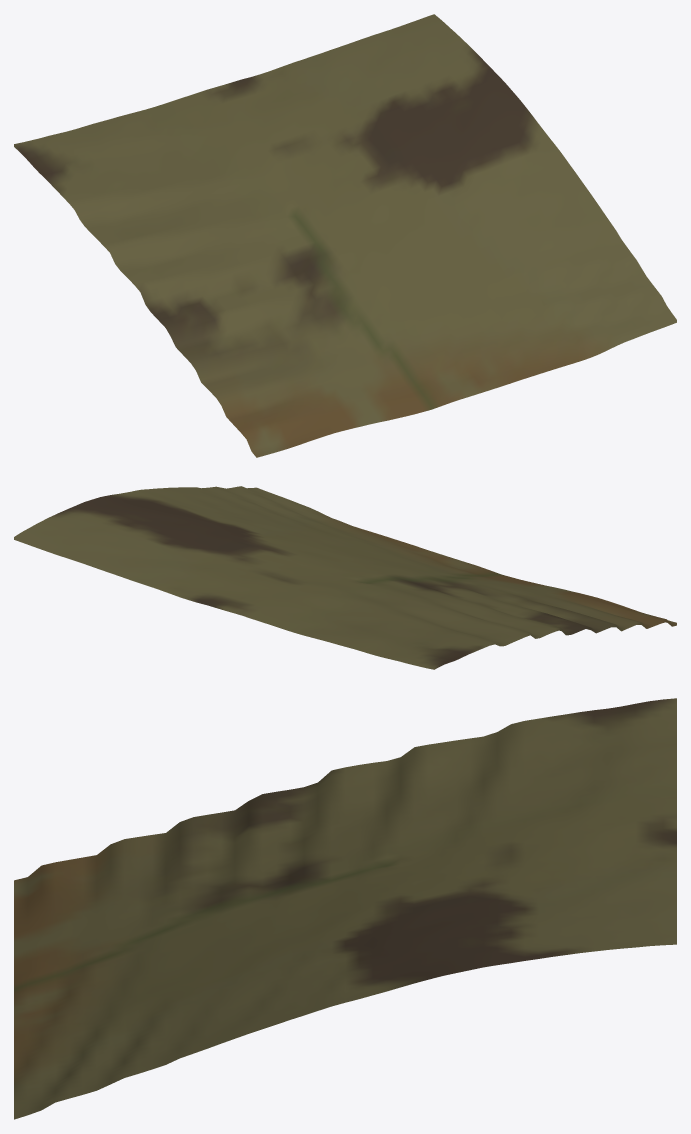
The model's file is land_m_08_02.glb.
3 renders of one model, top to bottom at view 1: azimuth 30°, elevation 25°; view 2: azimuth 150°, elevation 25°; view 3: azimuth 270°, elevation 25°, orthographic. The views are drawn at different scales.
Parts seen in each view (by area): view 1: land_m_08_02; view 2: land_m_08_02; view 3: land_m_08_02.
Part boxes in pixels (x1,y1,x2,y2): land_m_08_02: (14,14,676,457); land_m_08_02: (14,486,676,669); land_m_08_02: (14,698,676,1119).
Bounding box in the file's own units: 960 × 357 × 960.
